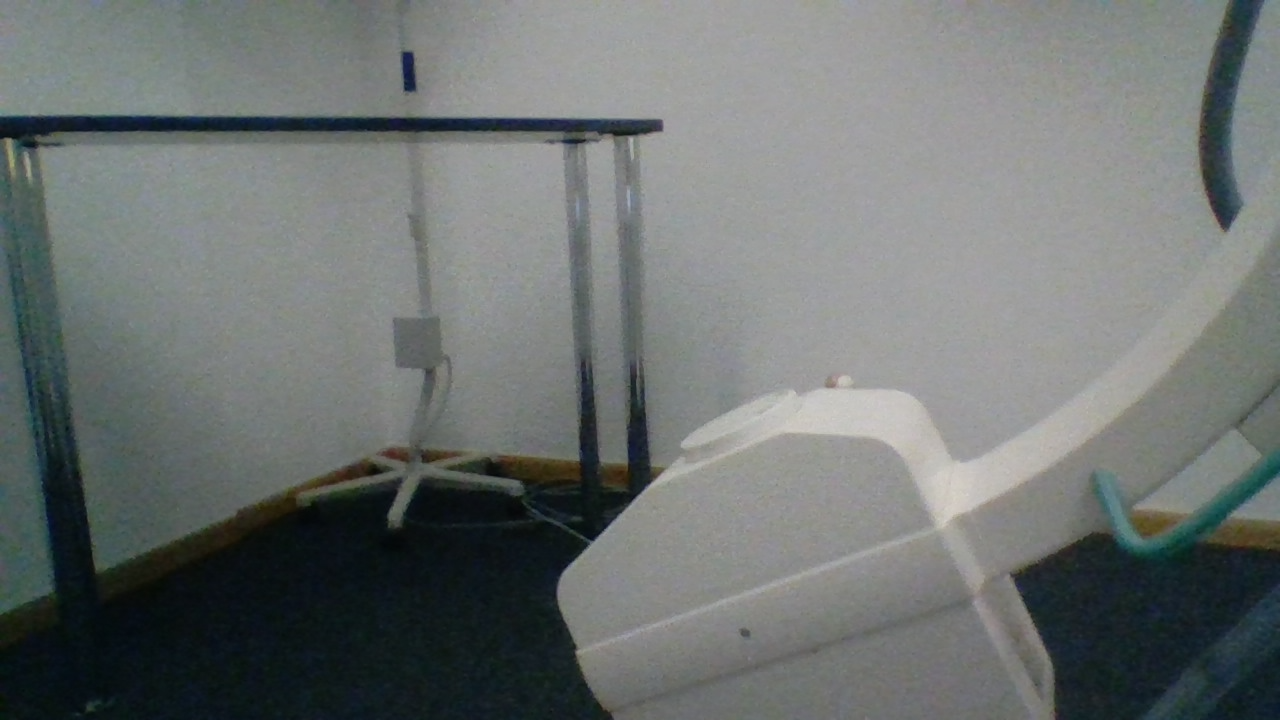carmDOWN: (554, 384, 957, 654)
